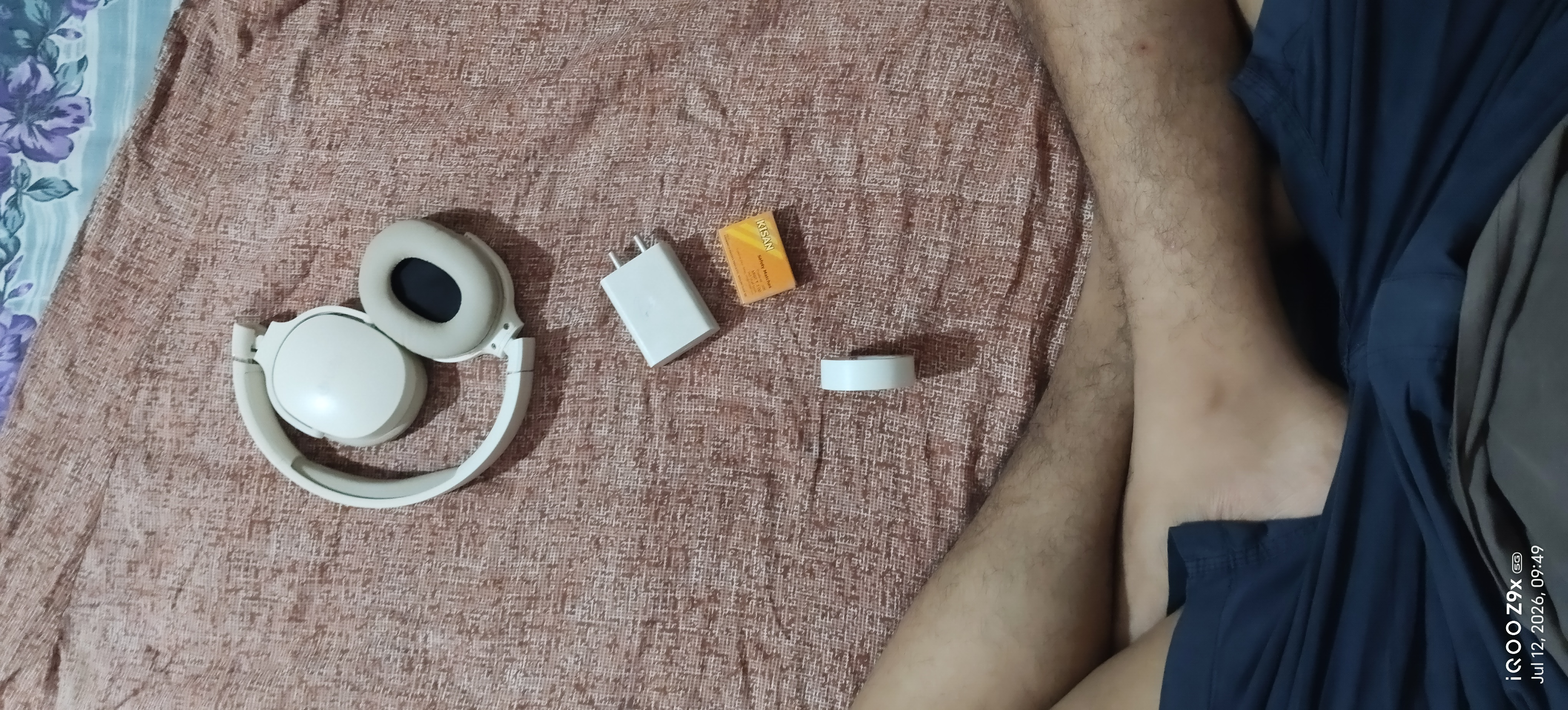charger: (587, 231, 726, 375)
matchbox: (715, 197, 804, 315)
tape_roll: (810, 350, 926, 399)
